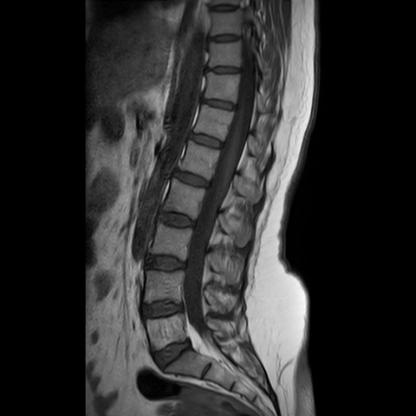Degenerative Disc Diseaserotation: (170, 168, 212, 190)
Disc Bulgerotation: (138, 295, 190, 329)
